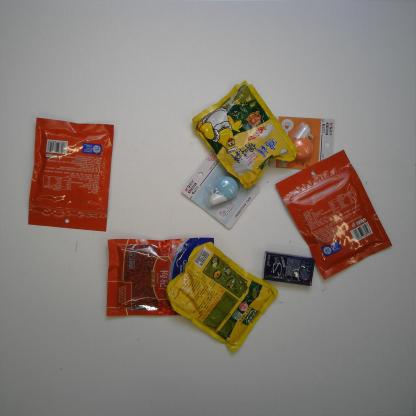Dried Fruit: (275, 150, 393, 280), (28, 117, 115, 232), (107, 237, 214, 316)
Gum: (262, 250, 315, 286)
Seasoner: (166, 241, 278, 354), (192, 79, 297, 190)
Stationery: (181, 151, 260, 229), (269, 115, 335, 171)
